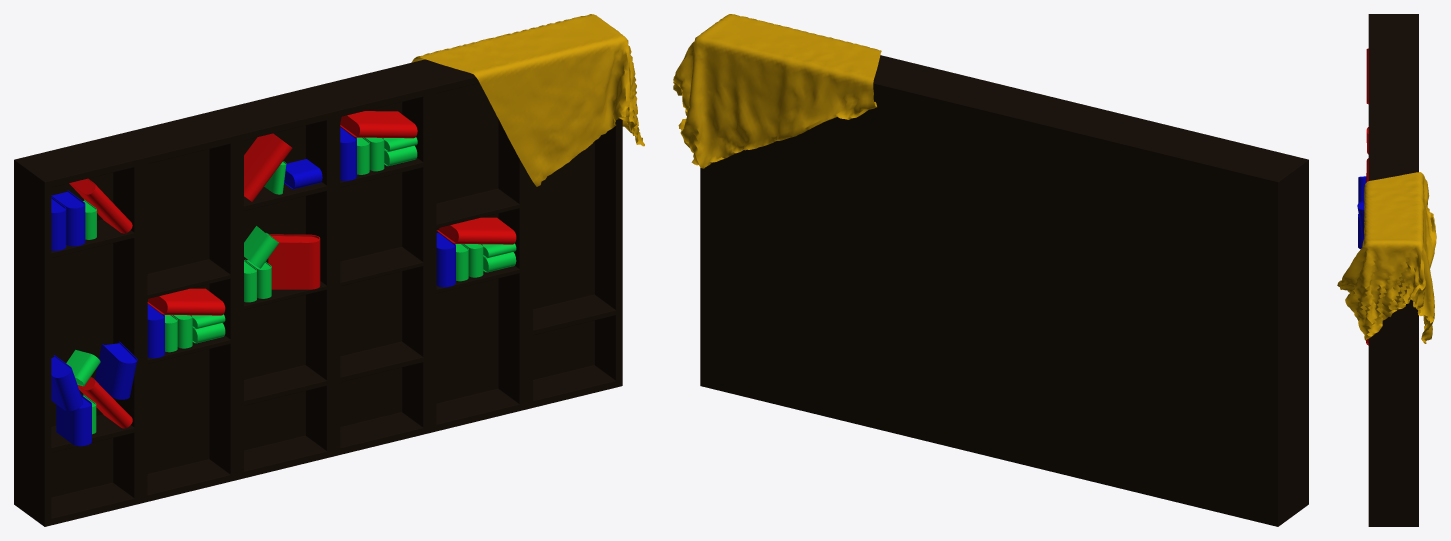
File: BOOKSHELF.fbx
3 views of the same model, side by side, from view 1: azimuth 30°, elevation 25°; view 2: azimuth 150°, elevation 25°; view 3: azimuth 270°, elevation 25° (orthographic). The views are drawn at different scales.
Parts seen in each view (by area): view 1: Cube.031 (×5); view 2: Cube.031 (×2); view 3: Cube.031 (×4).
Part boxes in pixels (x1,y1,x2,y2): Cube.031 (×5): (14,14,644,526); Cube.031 (×2): (673,14,1308,526); Cube.031 (×4): (1337,14,1436,526).
Size of the model in its own units: 531 by 292 by 91.83.
